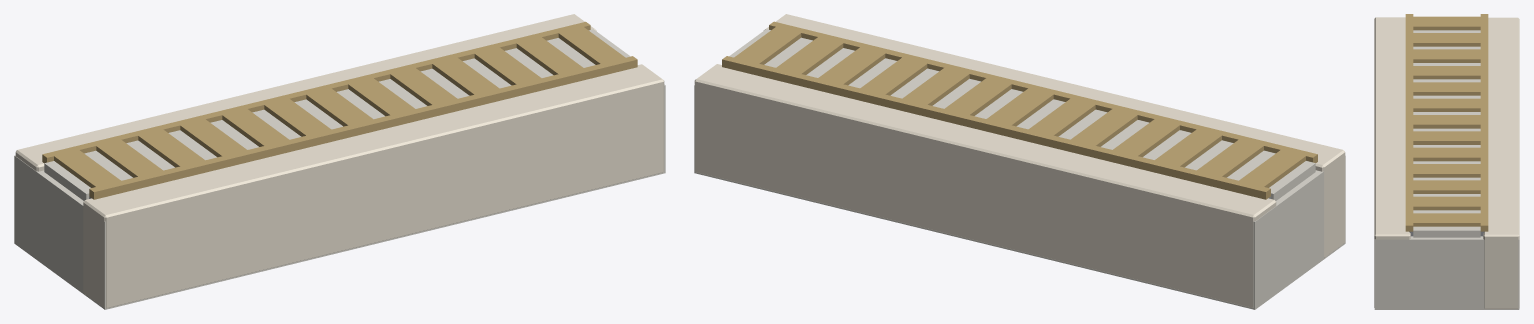
File: roman-bathhouse-and-palaestra-drain-channel-run-grate-42bc90ca__37884.glb
3 views of the same model, side by side, from view 1: azimuth 30°, elevation 25°; view 2: azimuth 150°, elevation 25°; view 3: azimuth 270°, elevation 25° (orthographic). The views are drawn at different scales.
Parts seen in each view (by area): view 1: drain-channel-run-grate; view 2: drain-channel-run-grate; view 3: drain-channel-run-grate.
Boxes of the visible parts, x1=… form: drain-channel-run-grate: x1=14, y1=14, x2=665, y2=309; drain-channel-run-grate: x1=694, y1=14, x2=1345, y2=309; drain-channel-run-grate: x1=1374, y1=14, x2=1519, y2=309.
Size of the model in its own units: 2 by 0.3461 by 0.5625.
